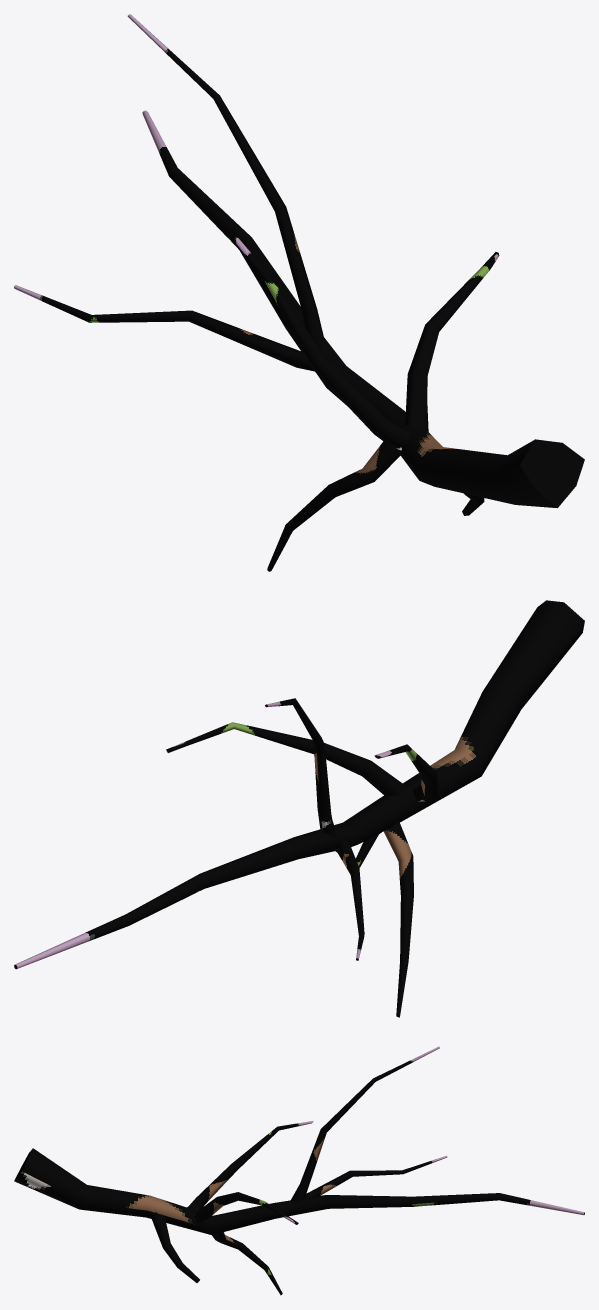
Rendered from Branch_3b.gltf.
3 renders of one model, top to bottom at view 1: azimuth 30°, elevation 25°; view 2: azimuth 150°, elevation 25°; view 3: azimuth 270°, elevation 25°, orthographic. The views are drawn at different scales.
Parts seen in each view (by area): view 1: Branch_3b; view 2: Branch_3b; view 3: Branch_3b.
Part boxes in pixels (x1,y1,x2,y2): Branch_3b: [14, 14, 584, 571]; Branch_3b: [14, 600, 584, 1017]; Branch_3b: [14, 1046, 584, 1295].
Bounding box in the file's own units: 70.22 × 86.81 × 180.
Materials: 1 (1 with a texture image).
